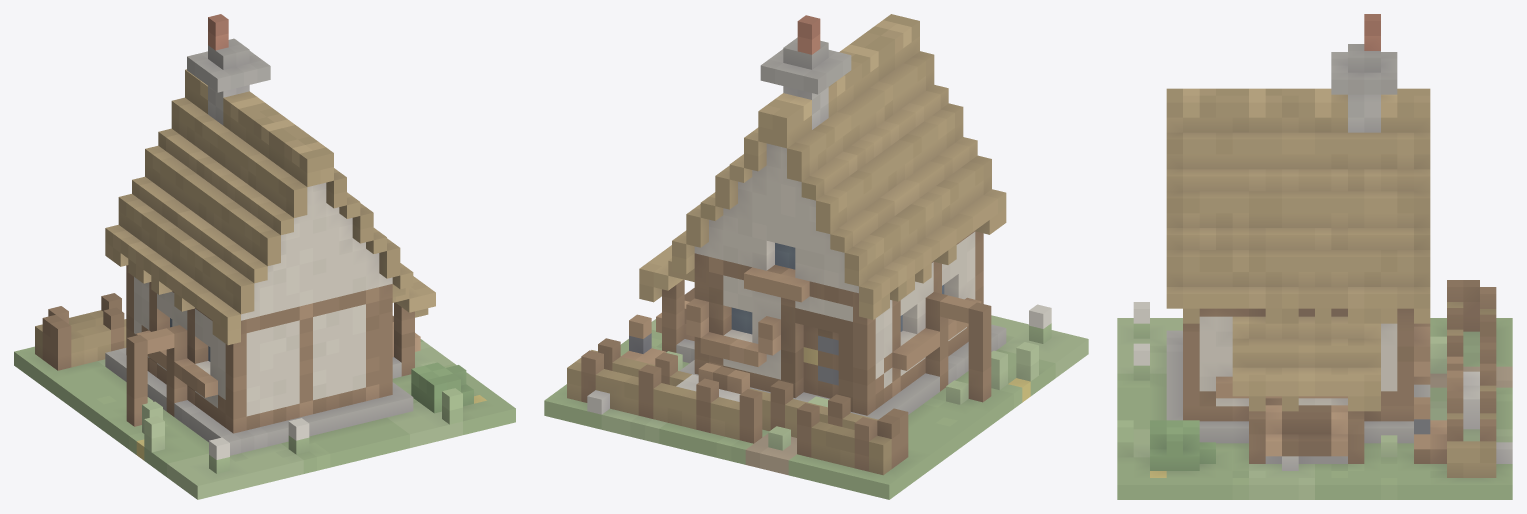
The model's file is house_settlers.v1.glb.
3 renders of one model, left to right at view 1: azimuth 30°, elevation 25°; view 2: azimuth 150°, elevation 25°; view 3: azimuth 270°, elevation 25°, orthographic. The views are drawn at different scales.
Parts seen in each view (by area): view 1: house_settlers; view 2: house_settlers; view 3: house_settlers.
Part boxes in pixels (x1,y1,x2,y2): house_settlers: (14, 14, 515, 499); house_settlers: (544, 14, 1088, 499); house_settlers: (1117, 14, 1512, 499).
Size of the model in its own units: 3 by 3.25 by 3.
